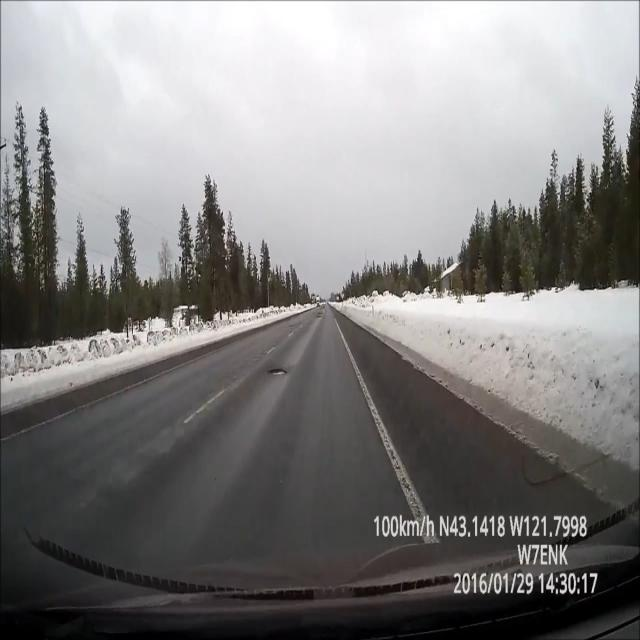Pothole: (267, 364, 289, 380)
